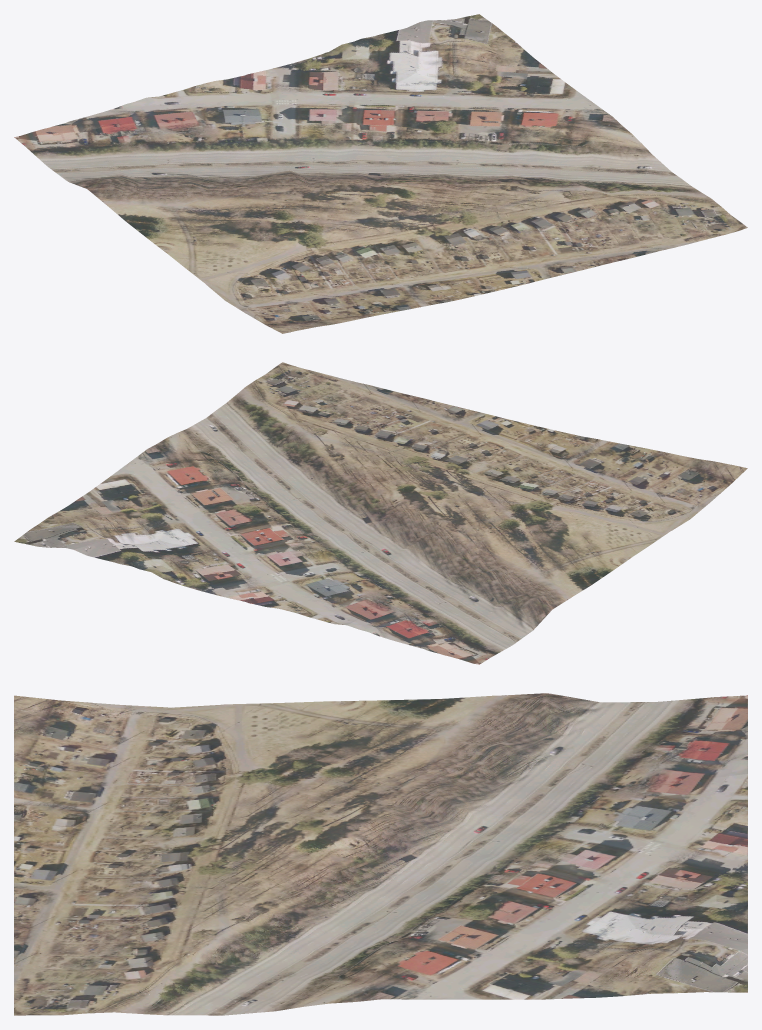
Rendered from CM_Terrain_24489230_6821636.fbx.
The picture shows the model from 3 angles, top to bottom: view 1: azimuth 30°, elevation 25°; view 2: azimuth 150°, elevation 25°; view 3: azimuth 270°, elevation 25°; orthographic projection. The views are drawn at different scales.
Parts seen in each view (by area): view 1: CM_Terrain_24489230_6821636_LOD0; view 2: CM_Terrain_24489230_6821636_LOD0; view 3: CM_Terrain_24489230_6821636_LOD0.
Boxes of the visible parts, x1,y1,x2,y2 form: CM_Terrain_24489230_6821636_LOD0: [14, 14, 747, 333]; CM_Terrain_24489230_6821636_LOD0: [14, 362, 747, 664]; CM_Terrain_24489230_6821636_LOD0: [14, 693, 747, 1015].
Size of what is drawn, in the model's own units: 205 by 11.1 by 205.
